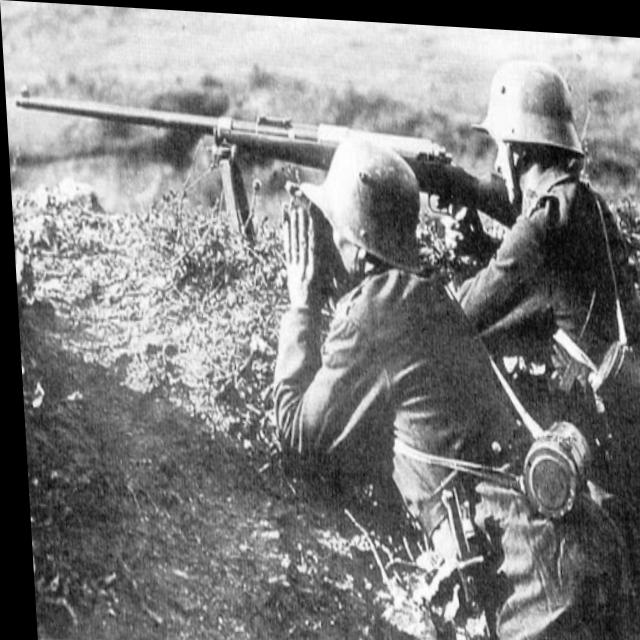other: (261, 129, 610, 638), (447, 56, 640, 450)
